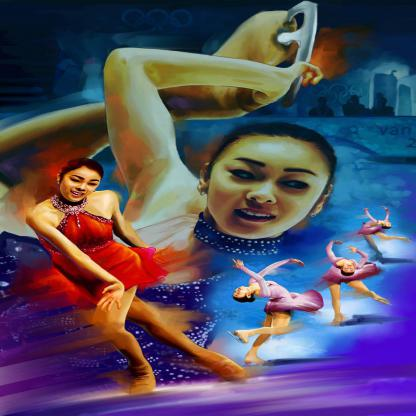face: (209, 149, 329, 240), (61, 172, 102, 203), (233, 288, 249, 298), (344, 264, 354, 273), (321, 100, 328, 107), (385, 223, 393, 228)
